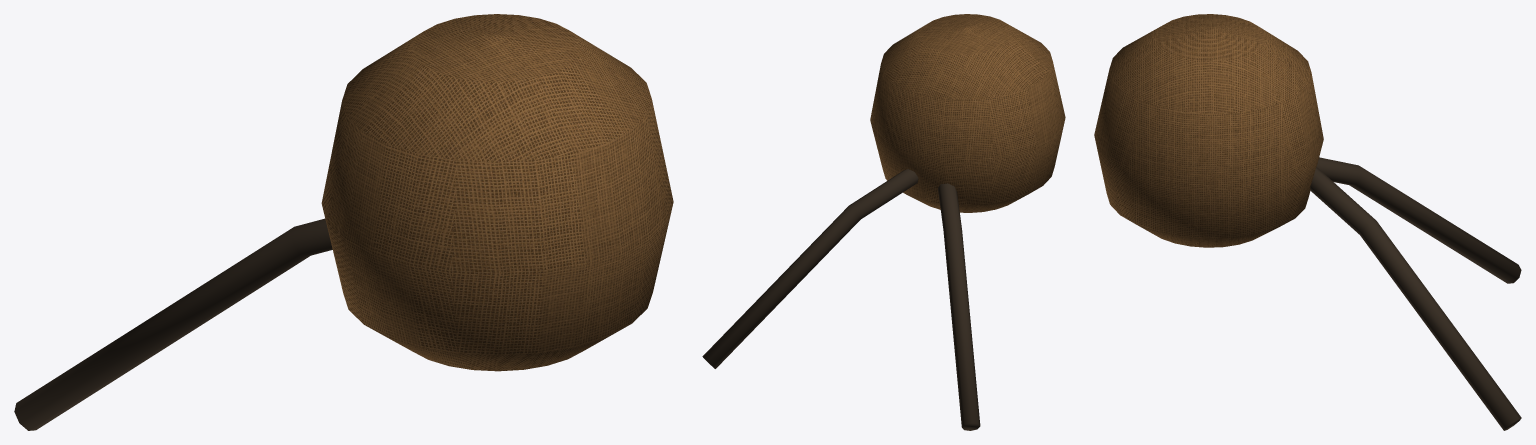
The model's file is backpack.glb.
3 renders of one model, left to right at view 1: azimuth 30°, elevation 25°; view 2: azimuth 150°, elevation 25°; view 3: azimuth 270°, elevation 25°, orthographic. The views are drawn at different scales.
Parts seen in each view (by area): view 1: Backpack; view 2: Backpack; view 3: Backpack.
Boxes of the visible parts, x1,y1,x2,y2 form: Backpack: (14, 14, 673, 430); Backpack: (702, 14, 1065, 430); Backpack: (1094, 14, 1521, 430).
Bounding box in the file's own units: 0.4074 × 0.3948 × 0.4654.
Materials: 3 (1 with a texture image).
